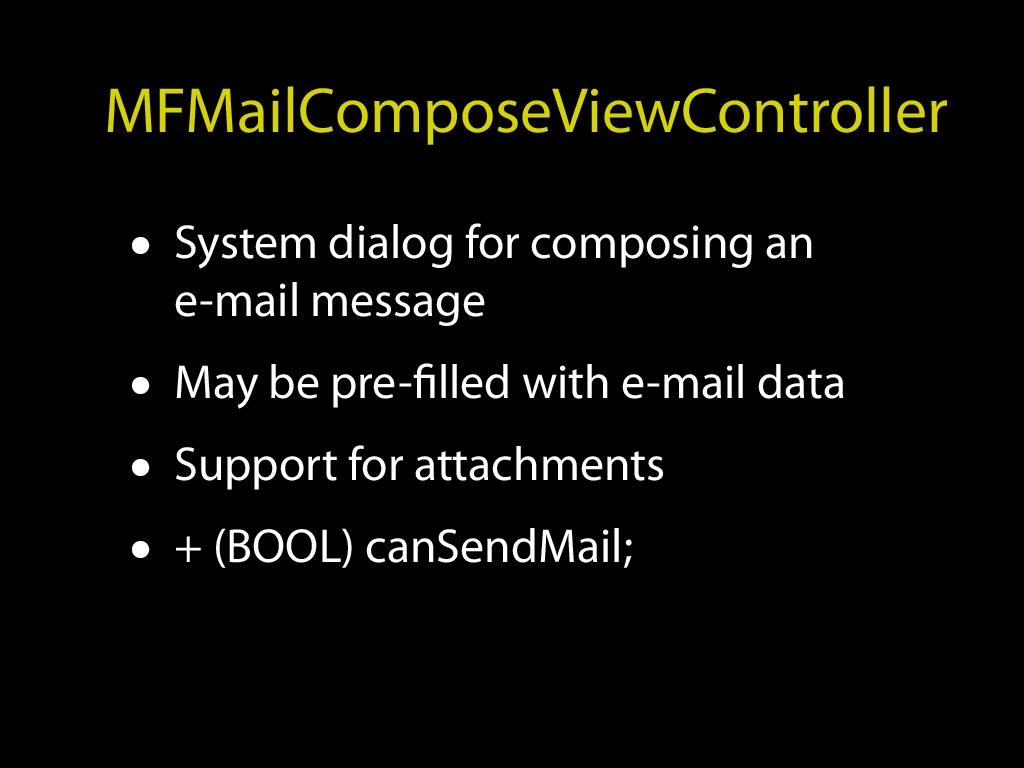paragraph: (106, 202, 930, 582)
title: (95, 65, 960, 161)
